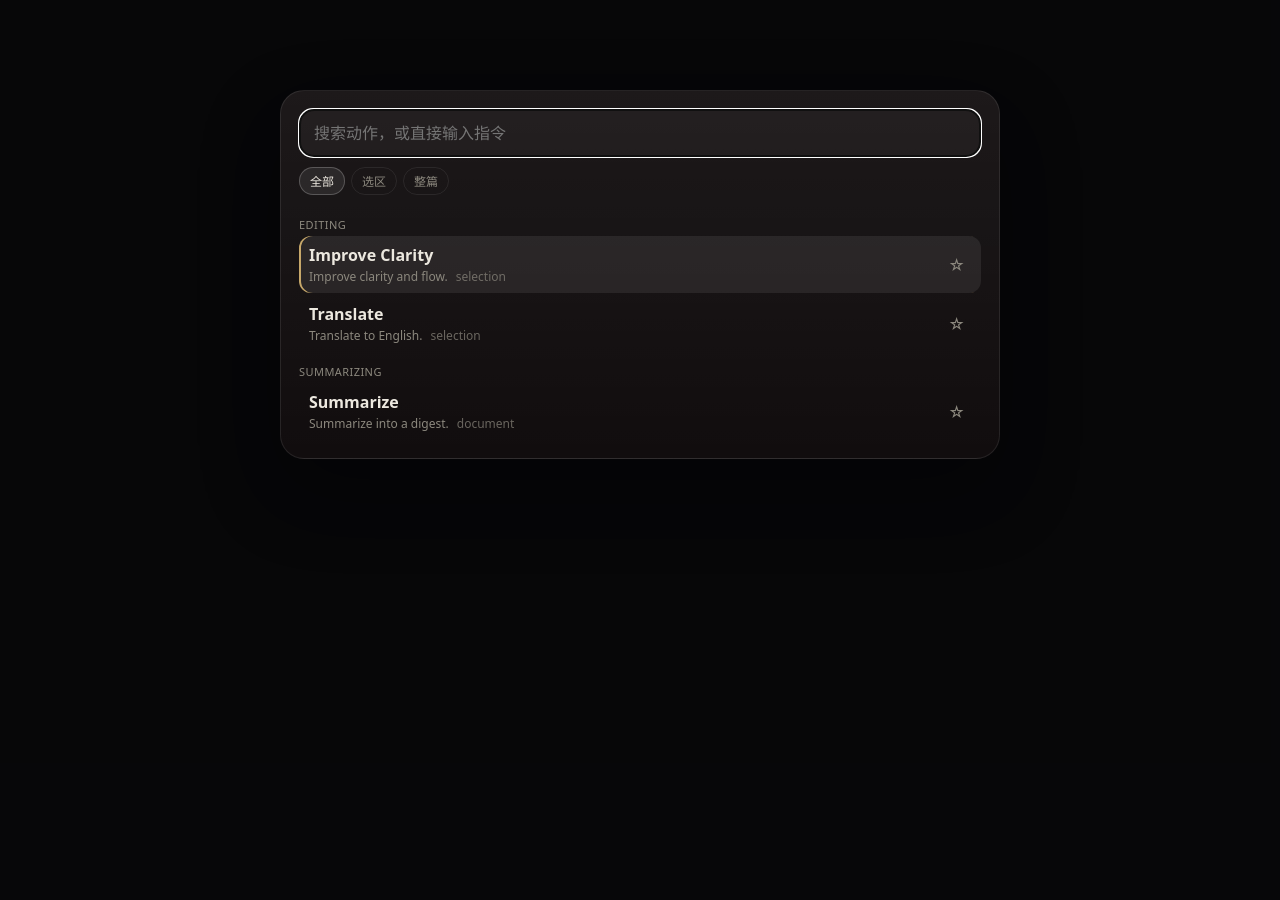
NotesNiaPicker › promotes favorites above everything else and persists them
Expected: the number of options is 3, [299,236,981,293]; [299,295,981,352]; [299,383,981,440]
Click the button "☆" in the row of "document" at {"x": 957, "y": 412}, box [942,398,971,424]
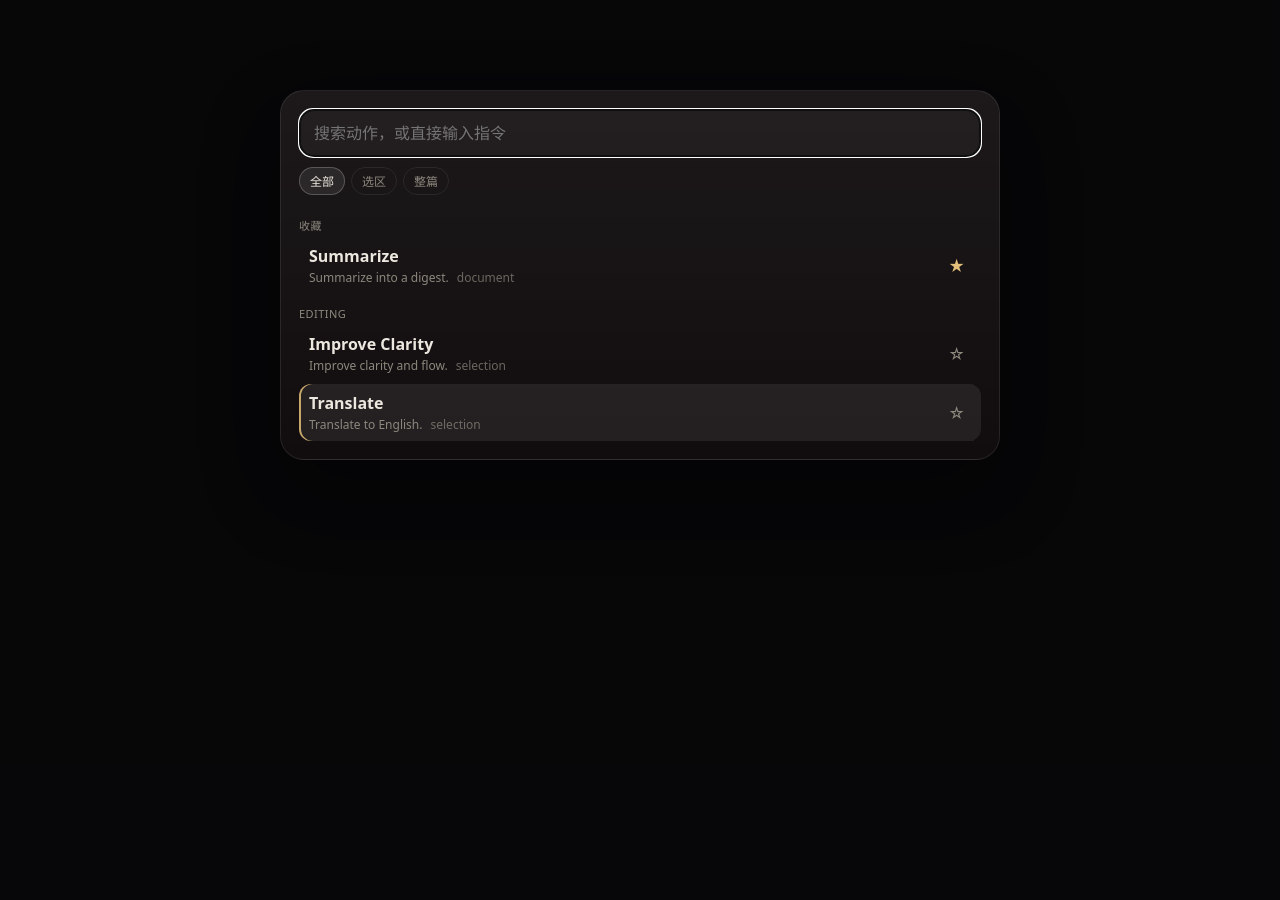
Expected: the text with class "notes-v2__nia-picker-item-name" reads "Summarize", [309,245,399,267]
Now the text "收藏" is shown, box [299,218,322,233]
